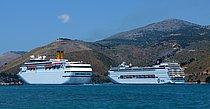Ship: (16, 49, 97, 88), (107, 59, 189, 89)
